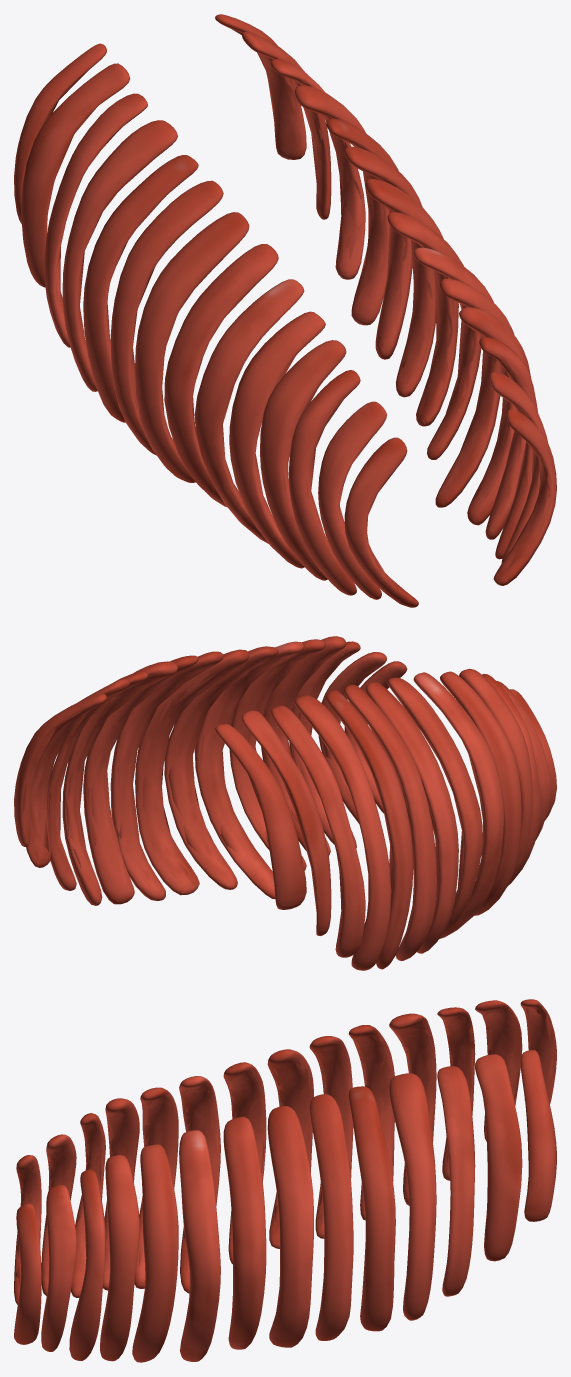
File: Intercostales Externi.fbx
3 renders of one model, top to bottom at view 1: azimuth 30°, elevation 25°; view 2: azimuth 150°, elevation 25°; view 3: azimuth 270°, elevation 25°, orthographic. The views are drawn at different scales.
Visible parts, largest first — view 1: Intercostales Externi high, Intercostales Externi low, Intercostales Externi; view 2: Intercostales Externi high, Intercostales Externi low, Intercostales Externi; view 3: Intercostales Externi high, Intercostales Externi low, Intercostales Externi.
Part boxes in pixels (box(x1,y1,x2,y2)): Intercostales Externi high: box(14, 14, 556, 607); Intercostales Externi low: box(46, 28, 551, 593); Intercostales Externi: box(55, 56, 541, 596); Intercostales Externi high: box(14, 636, 556, 970); Intercostales Externi low: box(27, 654, 483, 925); Intercostales Externi: box(22, 652, 502, 944); Intercostales Externi high: box(14, 999, 556, 1362); Intercostales Externi low: box(15, 1007, 552, 1308); Intercostales Externi: box(17, 1007, 555, 1296).
Size of the model in its own units: 20.13 by 21.03 by 34.09.
